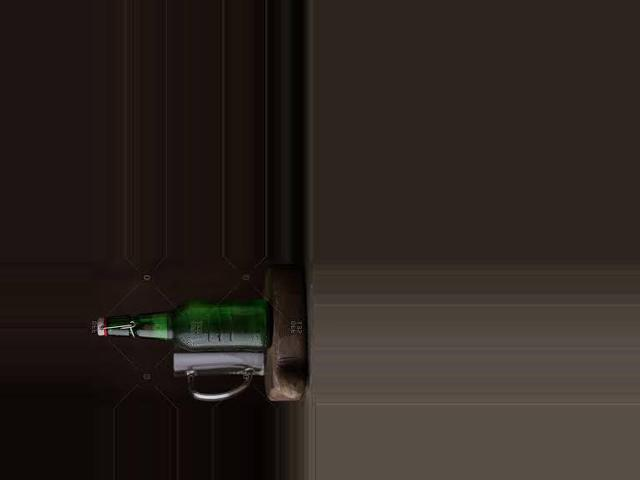beer: (97, 301, 272, 350)
